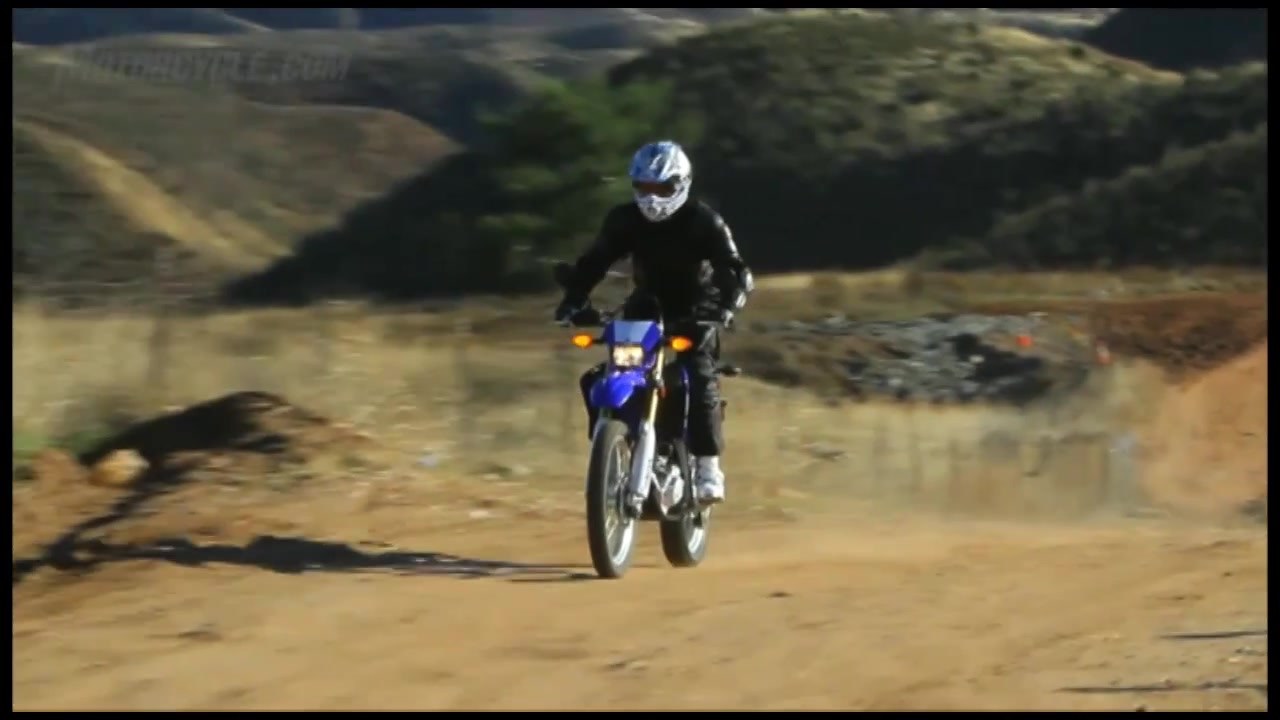motorbike: (556, 269, 744, 584)
